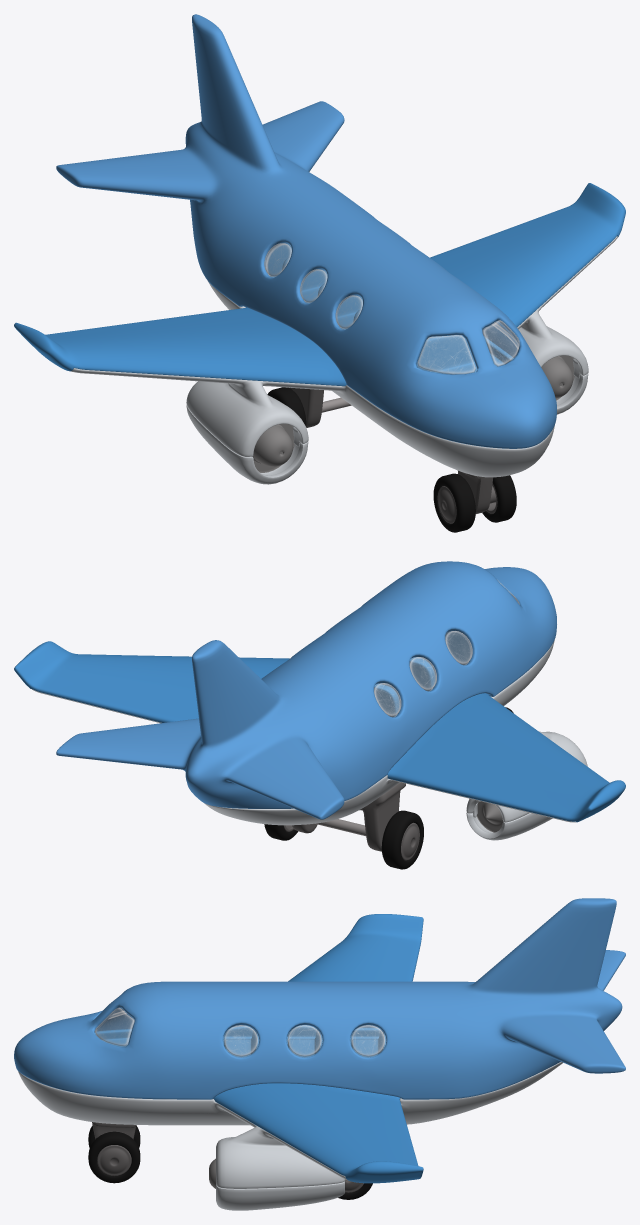
The model's file is ss500_cartoon_plane.glb.
3 renders of one model, top to bottom at view 1: azimuth 30°, elevation 25°; view 2: azimuth 150°, elevation 25°; view 3: azimuth 270°, elevation 25°, orthographic. The views are drawn at different scales.
Parts seen in each view (by area): view 1: Object_2, Object_4, Object_11, Object_3, Object_7, Object_10, Object_5, Object_8, Object_9; view 2: Object_2, Object_4, Object_11, Object_3, Object_7, Object_9, Object_10, Object_5, Object_8, Object_6; view 3: Object_2, Object_4, Object_11, Object_3, Object_10, Object_7, Object_8.
Part boxes in pixels (x1=…): Object_2: x1=56, y1=14, x2=556, y2=448; Object_4: x1=14, y1=183, x2=625, y2=386; Object_11: x1=70, y1=236, x2=617, y2=477; Object_3: x1=264, y1=243, x2=519, y2=374; Object_7: x1=267, y1=387, x2=516, y2=532; Object_10: x1=186, y1=373, x2=588, y2=484; Object_5: x1=252, y1=355, x2=574, y2=472; Object_8: x1=437, y1=470, x2=497, y2=523; Object_9: x1=289, y1=387, x2=323, y2=427; Object_2: x1=56, y1=561, x2=556, y2=819; Object_4: x1=14, y1=631, x2=625, y2=822; Object_11: x1=32, y1=640, x2=587, y2=825; Object_3: x1=374, y1=580, x2=519, y2=716; Object_7: x1=264, y1=707, x2=513, y2=869; Object_9: x1=292, y1=782, x2=405, y2=851; Object_10: x1=466, y1=812, x2=552, y2=840; Object_5: x1=476, y1=801, x2=503, y2=832; Object_8: x1=283, y1=822, x2=419, y2=860; Object_6: x1=315, y1=819, x2=365, y2=836; Object_2: x1=14, y1=898, x2=625, y2=1099; Object_4: x1=95, y1=914, x2=423, y2=1183; Object_11: x1=18, y1=1062, x2=562, y2=1188; Object_3: x1=94, y1=1007, x2=385, y2=1057; Object_10: x1=216, y1=1181, x2=344, y2=1210; Object_7: x1=88, y1=1125, x2=372, y2=1199; Object_8: x1=92, y1=1122, x2=363, y2=1192.
Size of the model in its own units: 751 by 376 by 765.
8 materials, 1 textured.
